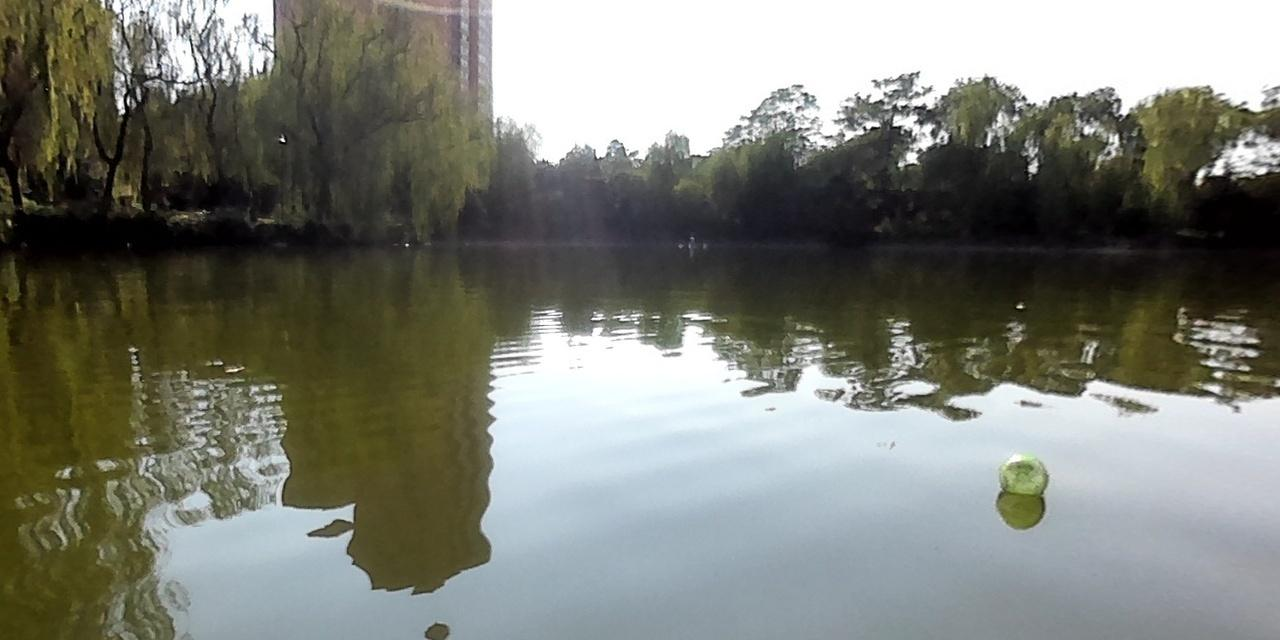bottle: (994, 454, 1047, 492)
